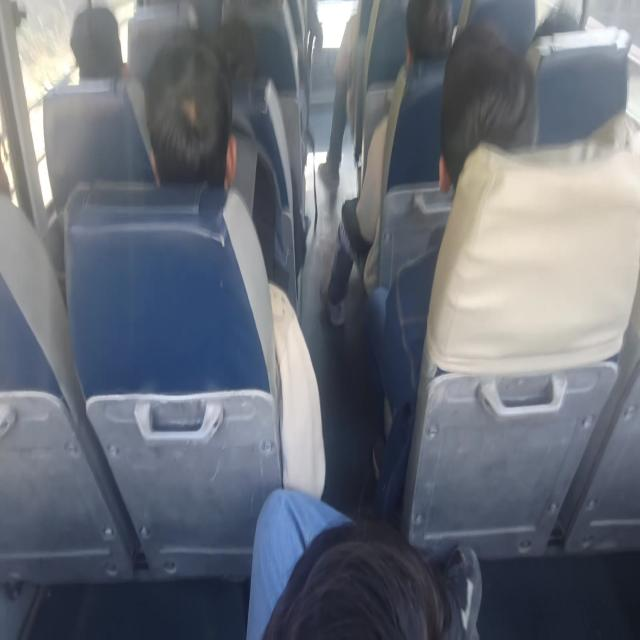person: (269, 494, 463, 640), (149, 41, 249, 208), (451, 47, 536, 158), (389, 0, 469, 61), (205, 16, 262, 90), (70, 3, 122, 84), (529, 0, 587, 41), (0, 123, 28, 203)
